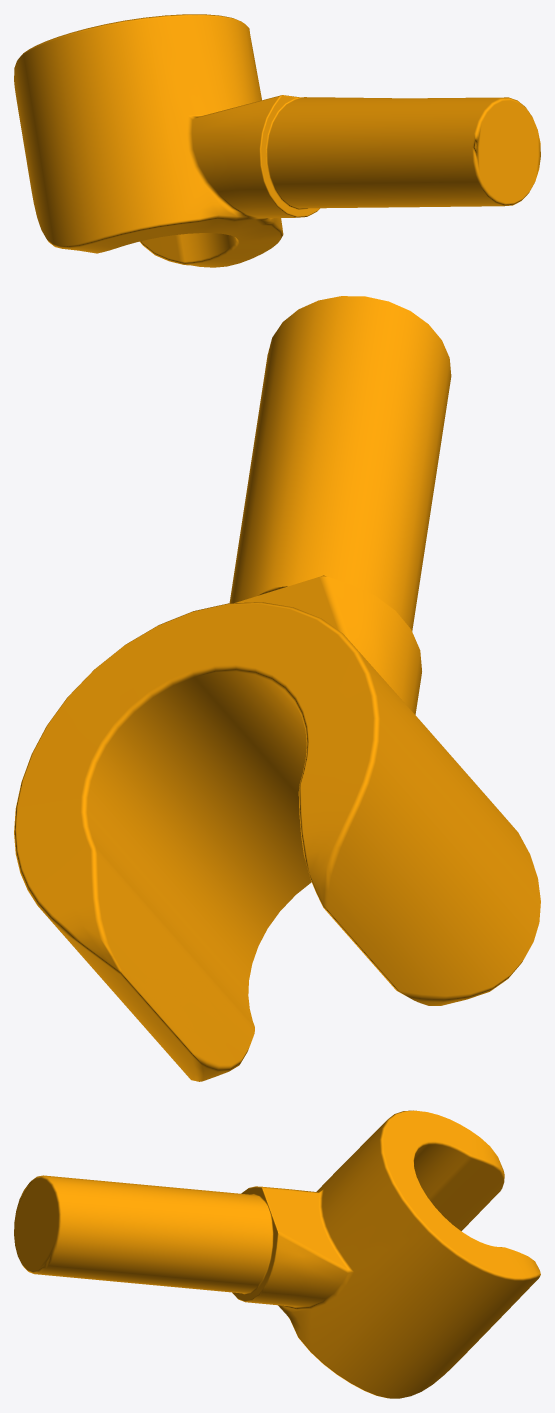
Rendered from MinifigHandRight.glb.
The picture shows the model from 3 angles, top to bottom: view 1: azimuth 30°, elevation 25°; view 2: azimuth 150°, elevation 25°; view 3: azimuth 270°, elevation 25°; orthographic projection. The views are drawn at different scales.
Parts seen in each view (by area): view 1: HandRight.001; view 2: HandRight.001; view 3: HandRight.001.
Part boxes in pixels (x1,y1,x2,y2): HandRight.001: (14, 14, 540, 267); HandRight.001: (14, 296, 540, 1081); HandRight.001: (14, 1110, 540, 1398).
Bounding box in the file's own units: 0.1472 × 0.1276 × 0.2345.
